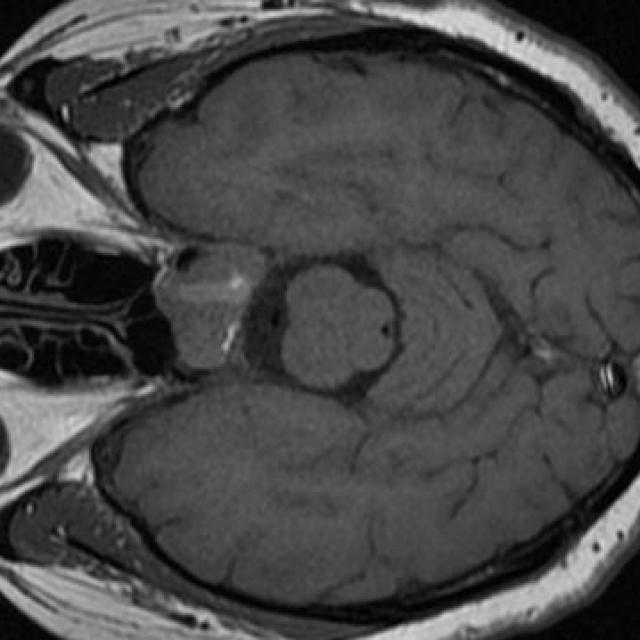pituitary: (155, 248, 264, 369)
